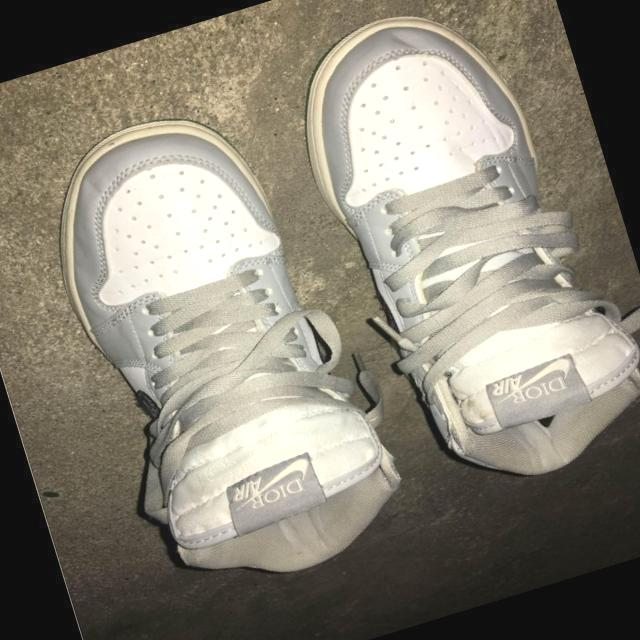nike_fake_jordan: (14, 74, 423, 616), (267, 0, 640, 509)
